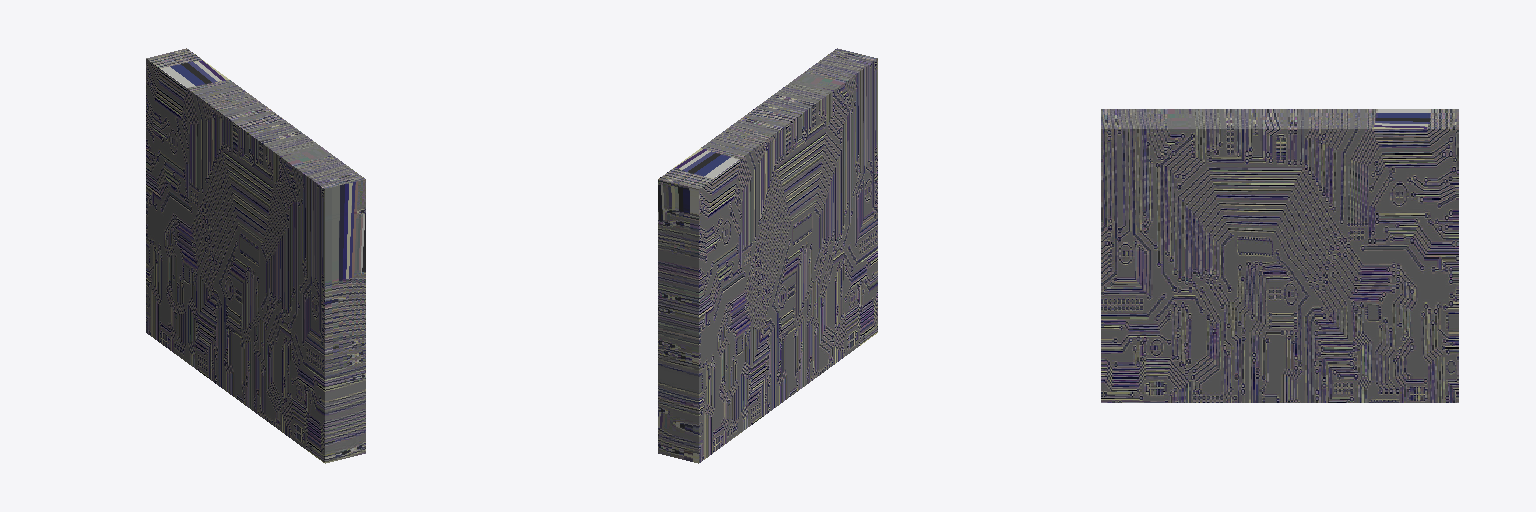
3 renders of one model, left to right at view 1: azimuth 30°, elevation 25°; view 2: azimuth 150°, elevation 25°; view 3: azimuth 270°, elevation 25°, orthographic.
Parts seen in each view (by area): view 1: obj1; view 2: obj1; view 3: obj1.
Boxes of the visible parts, x1,y1,x2,y2 form: obj1: [146, 48, 365, 463]; obj1: [658, 48, 877, 463]; obj1: [1101, 109, 1458, 402].
Size of the model in its own units: 0.0801 by 0.512 by 0.605.
1 materials, 1 textured.